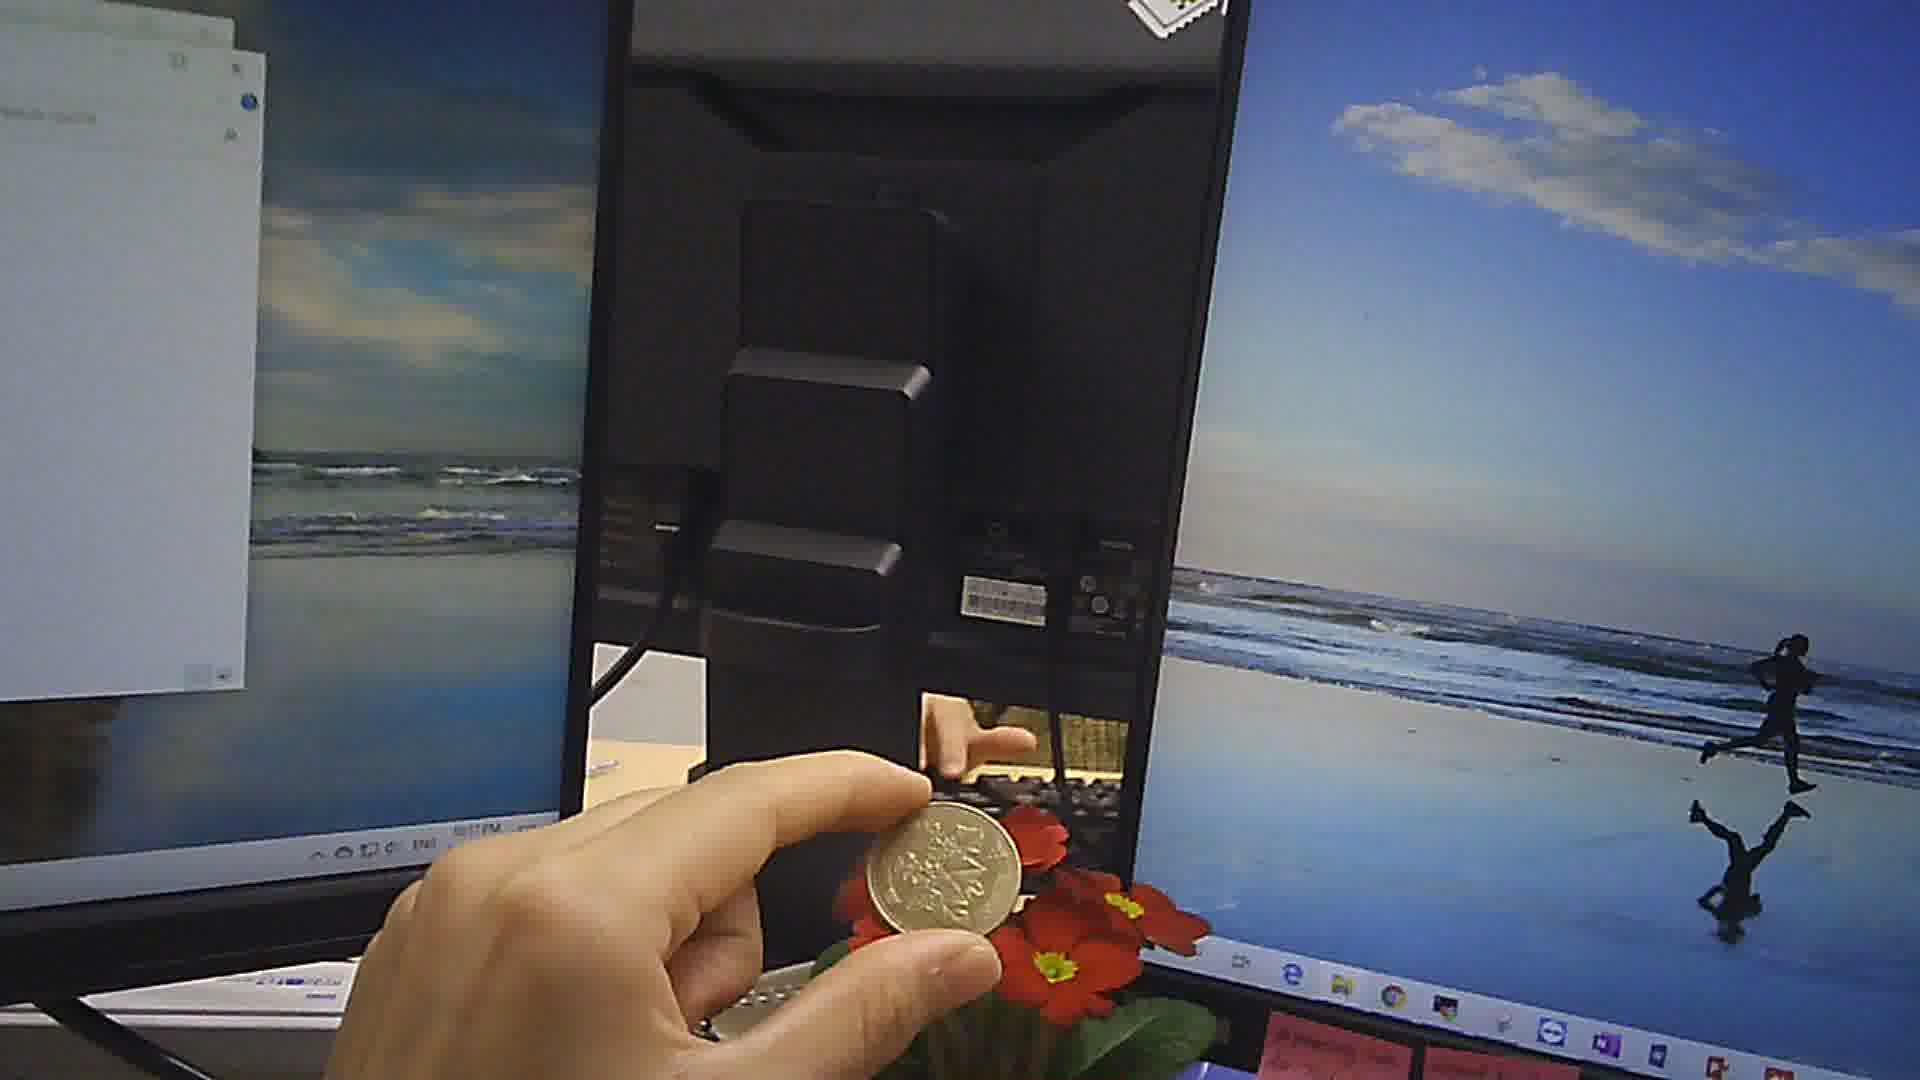500 Yen: (849, 787, 1027, 949)
